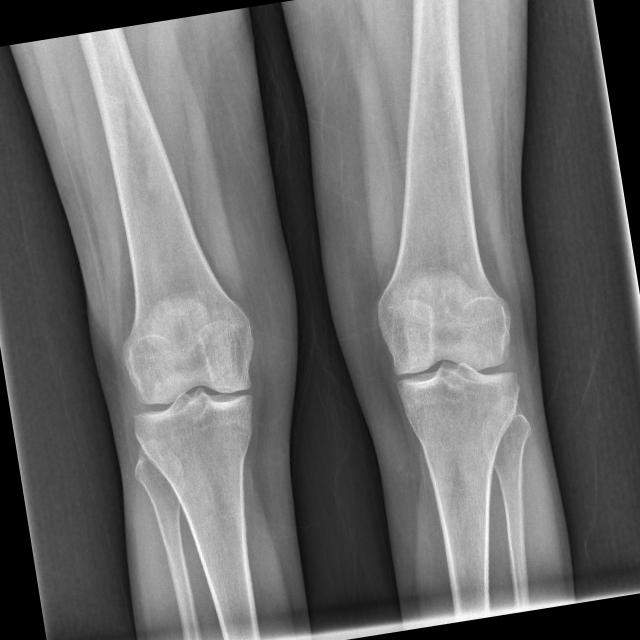Knee: (372, 278, 528, 442), (119, 316, 277, 474)
